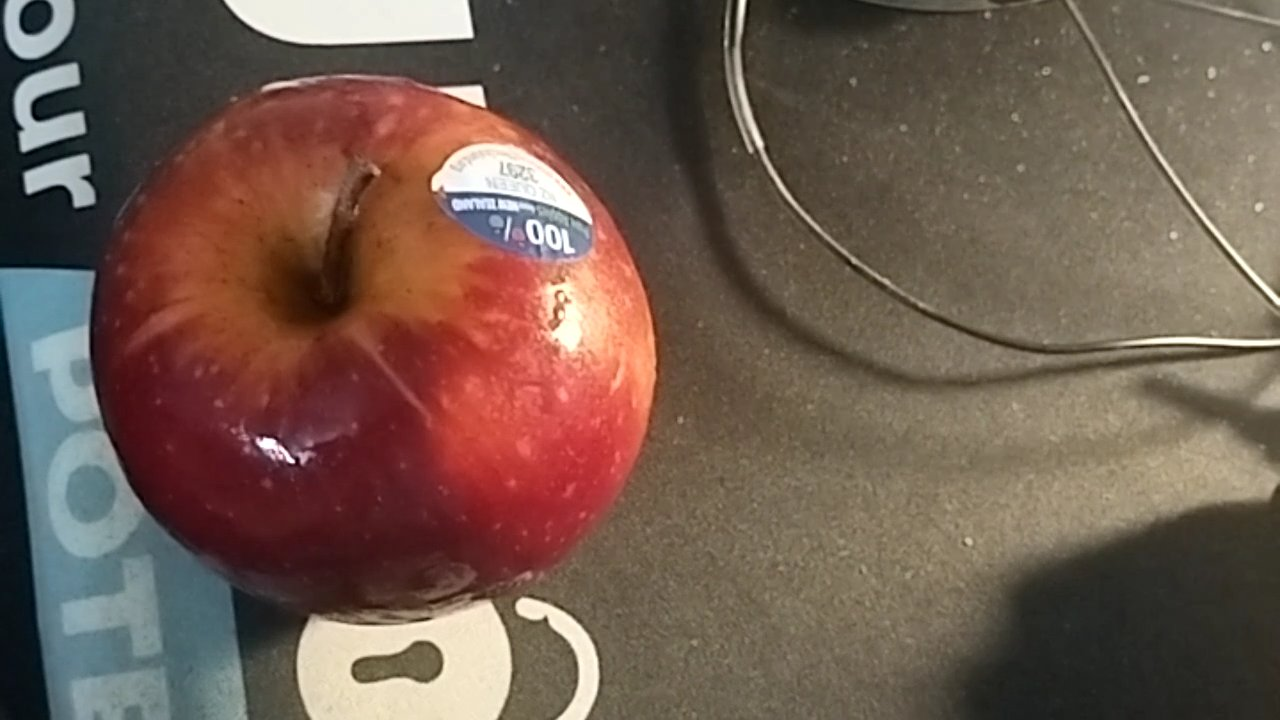apple_rotten: (85, 74, 660, 615)
